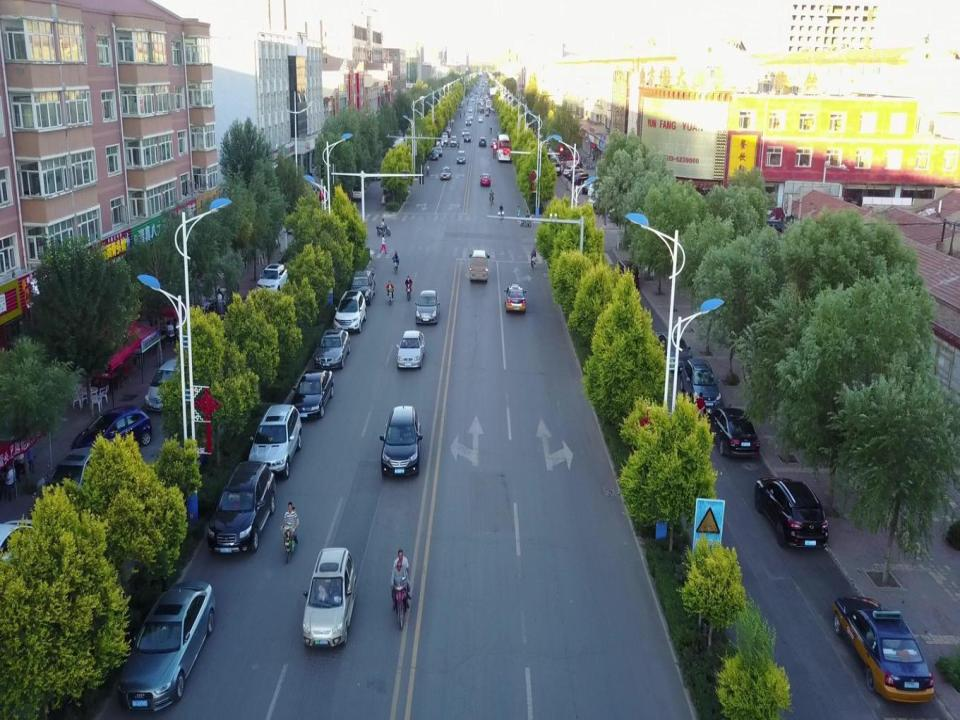bus: (497, 133, 510, 162)
car: (116, 580, 216, 716), (832, 595, 935, 703), (38, 440, 117, 538), (206, 461, 276, 555), (302, 546, 356, 648), (755, 476, 828, 549), (70, 404, 152, 468), (248, 404, 302, 480), (379, 404, 423, 479), (704, 405, 760, 458), (144, 354, 192, 411), (289, 368, 334, 422), (679, 358, 722, 413), (651, 330, 693, 372), (314, 327, 352, 369), (332, 290, 367, 333), (396, 329, 426, 369), (255, 262, 290, 296), (350, 269, 376, 305), (415, 290, 441, 325), (504, 284, 527, 314), (571, 172, 590, 187), (562, 166, 584, 178), (567, 168, 584, 180), (440, 166, 452, 180), (582, 180, 594, 194), (480, 174, 491, 187), (429, 150, 439, 160), (499, 204, 504, 221), (517, 205, 520, 222)
van: (615, 257, 639, 288), (469, 250, 490, 282), (456, 150, 466, 164)
